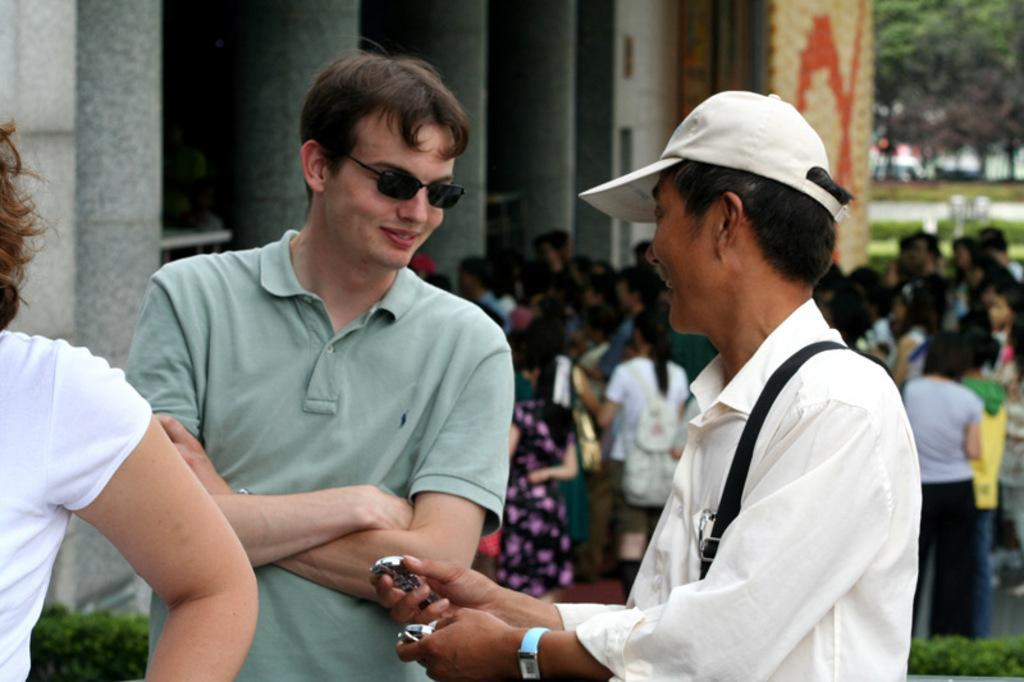Hat: (578, 88, 846, 224)
